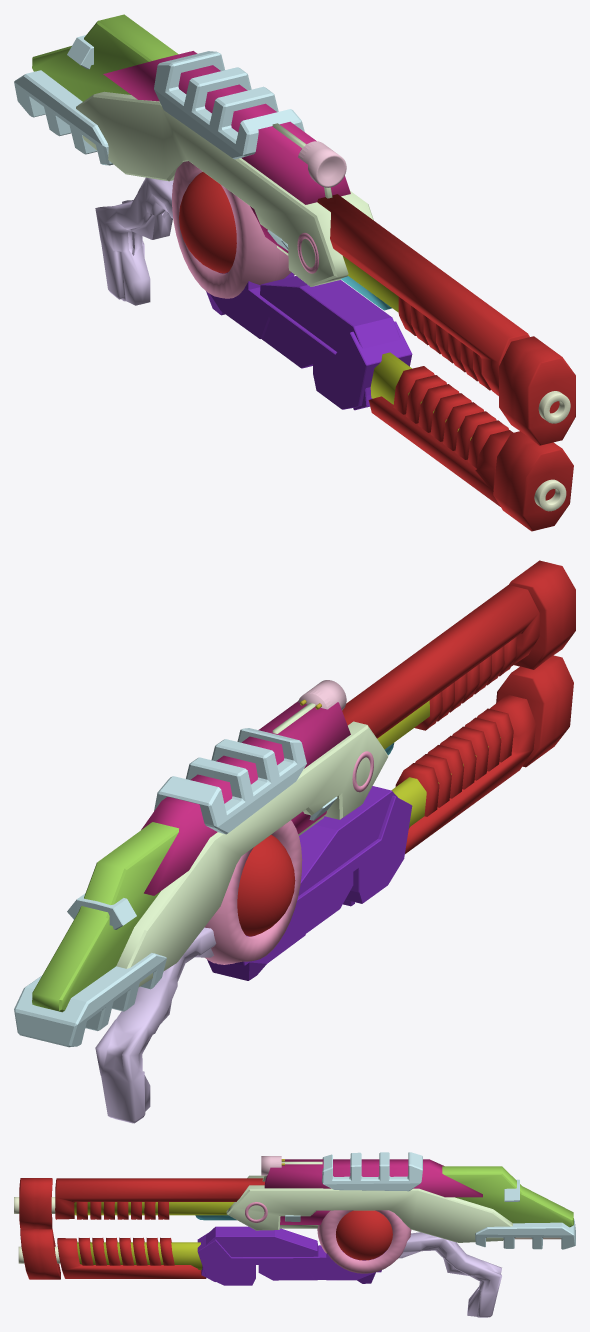
Rendered from Laser Gun.fbx.
3 renders of one model, top to bottom at view 1: azimuth 30°, elevation 25°; view 2: azimuth 150°, elevation 25°; view 3: azimuth 270°, elevation 25°, orthographic. The views are drawn at different scales.
Parts seen in each view (by area): view 1: OBJ_2009; view 2: OBJ_2009; view 3: OBJ_2009.
Part boxes in pixels (box(x1,y1,x2,y2)): OBJ_2009: box(14, 14, 575, 531); OBJ_2009: box(14, 560, 575, 1123); OBJ_2009: box(14, 1152, 575, 1317).
Size of the model in its own units: 24.34 by 67.32 by 216.
